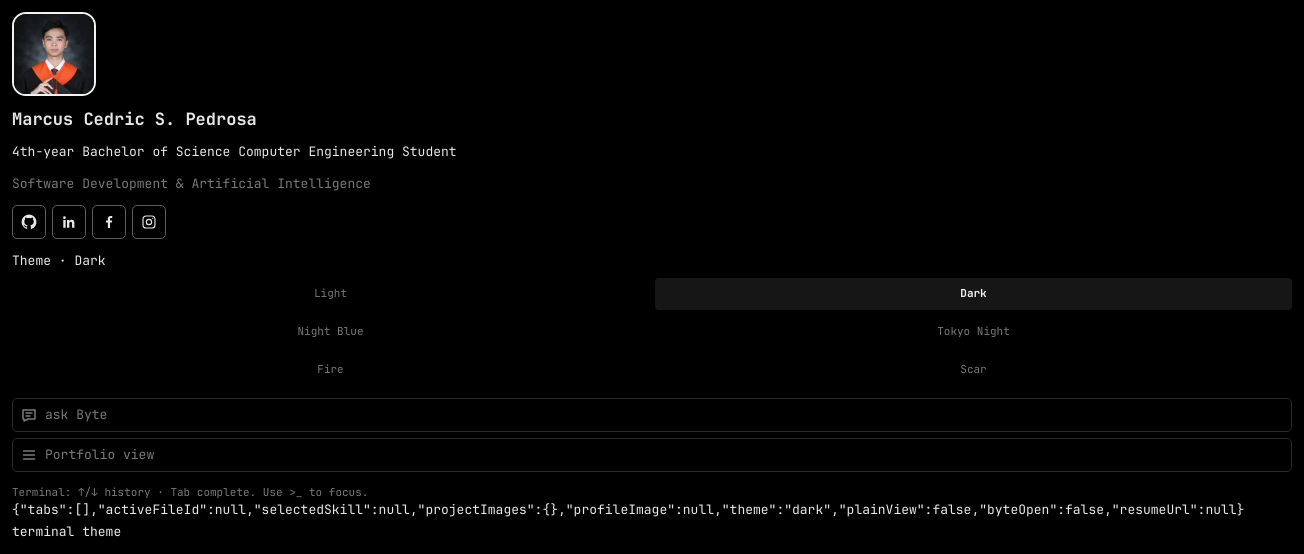
Test: opens Byte and toggles portfolio view through existing actions
This screenshot has width=1304, height=554.
Step 1. Click the button "ask Byte" → x=76, y=414, box 12,398 -> 1292,432
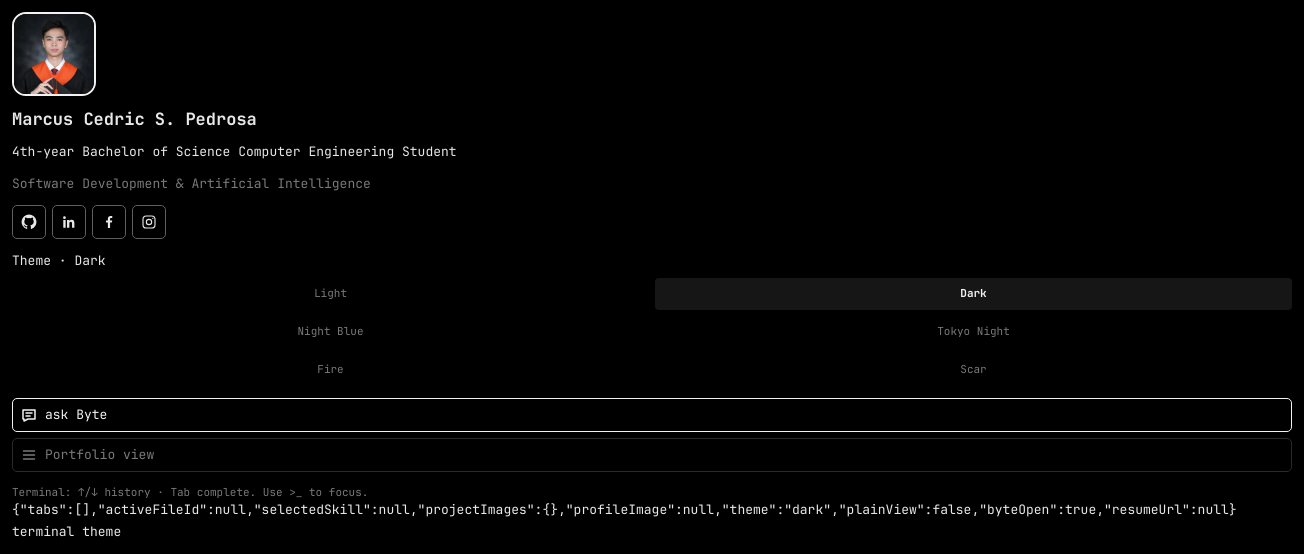
Step 2. Click the button "Portfolio view" → x=100, y=454, box 12,438 -> 1292,472
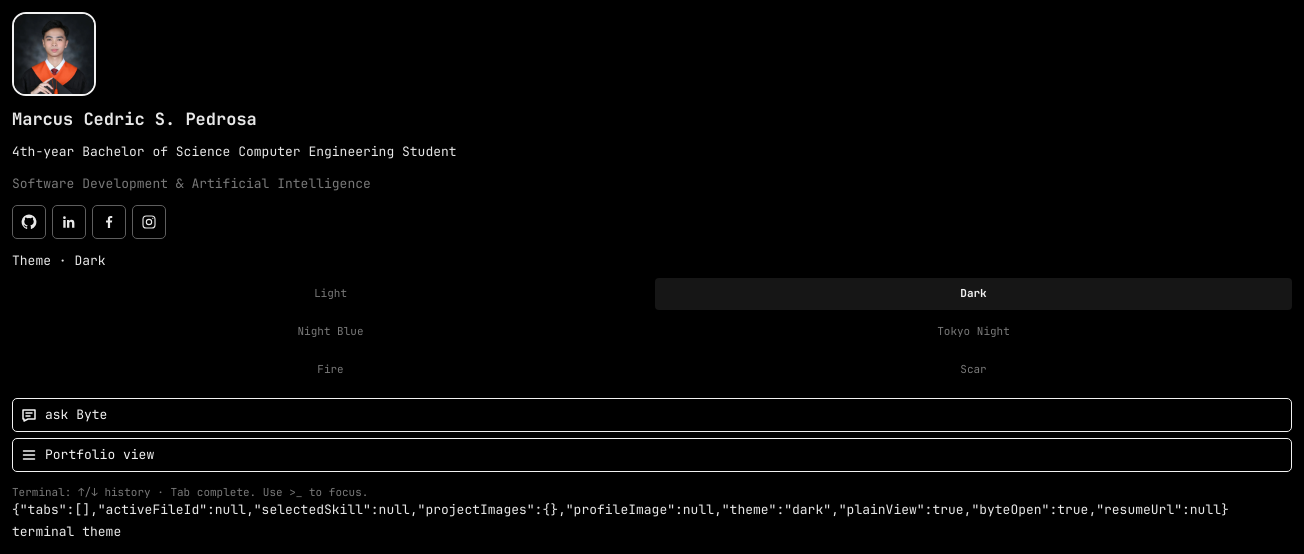
Result: the text "\"byteOpen\":true" is shown at 12,501 -> 1229,518
Step 3. Click the button "Portfolio view" → x=100, y=454, box 12,438 -> 1292,472
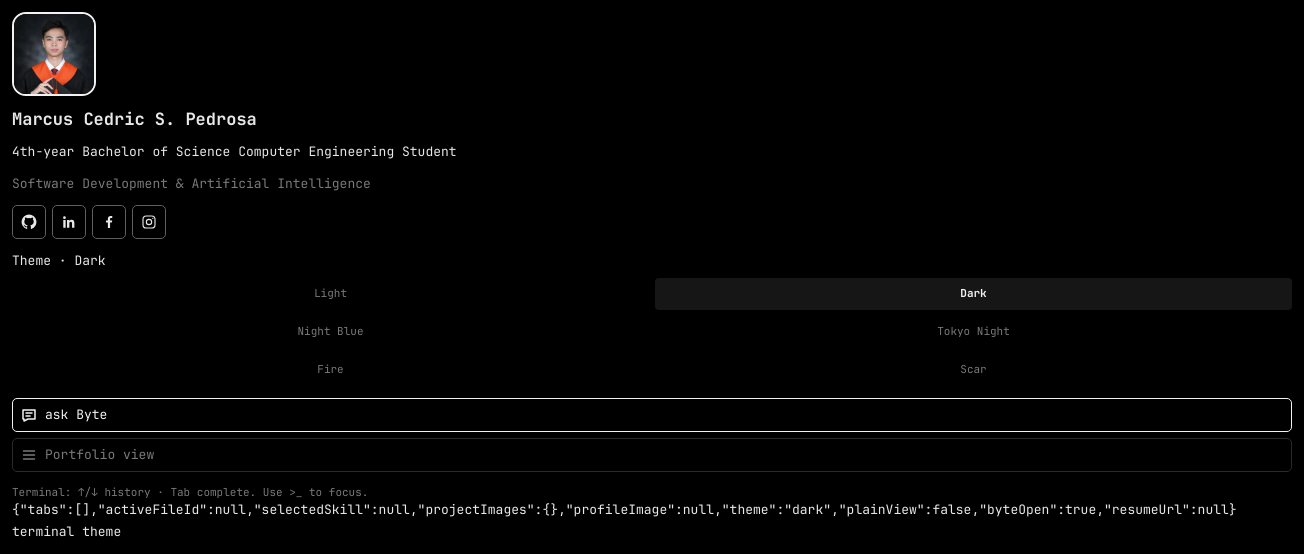
Result: the button "Portfolio view" is not pressed at 12,438 -> 1292,472
